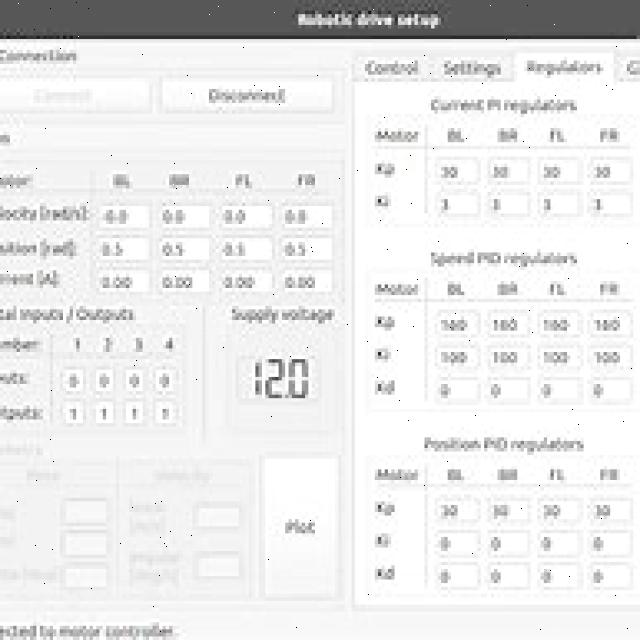button: (158, 72, 336, 116), (0, 74, 149, 114)
input: (258, 452, 342, 605), (582, 184, 634, 224), (535, 184, 583, 225), (190, 548, 246, 583), (484, 303, 534, 340), (534, 305, 584, 342), (432, 304, 482, 340), (89, 234, 152, 262), (56, 496, 111, 528), (485, 187, 535, 222), (430, 371, 483, 404), (538, 493, 584, 531), (218, 233, 276, 263), (216, 266, 276, 295), (431, 153, 483, 186), (484, 372, 533, 407), (57, 529, 112, 560), (190, 500, 245, 531), (483, 340, 534, 373), (156, 200, 212, 230), (535, 153, 584, 187), (430, 339, 482, 371), (584, 306, 636, 338), (157, 234, 214, 263), (97, 200, 152, 230), (585, 559, 636, 591), (156, 266, 212, 295), (216, 202, 274, 230), (280, 201, 336, 230), (59, 562, 113, 592), (433, 188, 483, 220), (583, 528, 636, 558), (585, 496, 636, 527), (585, 342, 634, 374), (278, 233, 336, 260), (280, 266, 334, 295), (533, 373, 587, 402), (535, 529, 583, 561), (536, 341, 582, 374), (482, 560, 530, 591), (433, 559, 479, 591), (484, 528, 530, 560), (432, 493, 481, 523), (433, 528, 482, 558), (582, 156, 636, 183), (95, 268, 151, 294), (487, 494, 531, 527), (487, 153, 532, 185), (534, 561, 584, 589), (587, 376, 635, 402), (121, 364, 148, 395), (153, 398, 180, 428), (154, 362, 179, 393), (60, 364, 85, 394), (61, 398, 85, 427), (94, 397, 117, 427), (123, 398, 146, 425), (94, 364, 116, 391)
label: (233, 349, 327, 404), (0, 615, 189, 640), (417, 430, 591, 456), (424, 248, 588, 270), (294, 8, 444, 32), (226, 300, 340, 328), (426, 96, 592, 114), (0, 229, 81, 264), (0, 304, 135, 324), (0, 40, 83, 68), (0, 202, 91, 224), (0, 268, 68, 294), (0, 327, 43, 359), (367, 276, 425, 299), (0, 400, 49, 426), (365, 342, 405, 370), (369, 463, 422, 483), (0, 365, 39, 392), (370, 128, 423, 147), (162, 170, 204, 191), (368, 377, 404, 401), (372, 494, 405, 520), (372, 311, 404, 336), (489, 462, 529, 482), (370, 528, 402, 553), (492, 121, 523, 146), (370, 562, 402, 586), (438, 278, 476, 298), (0, 167, 36, 188), (542, 122, 574, 145), (367, 160, 407, 178), (540, 278, 576, 298), (106, 169, 138, 191), (594, 122, 624, 145), (486, 279, 524, 297), (594, 276, 624, 298), (594, 462, 624, 484), (292, 169, 323, 190), (542, 462, 573, 482), (440, 125, 470, 145), (444, 464, 474, 483), (228, 171, 258, 190), (371, 195, 396, 217), (129, 333, 150, 356), (66, 333, 87, 354), (164, 335, 188, 353), (97, 332, 117, 353)
tabControl: (348, 50, 640, 85)
